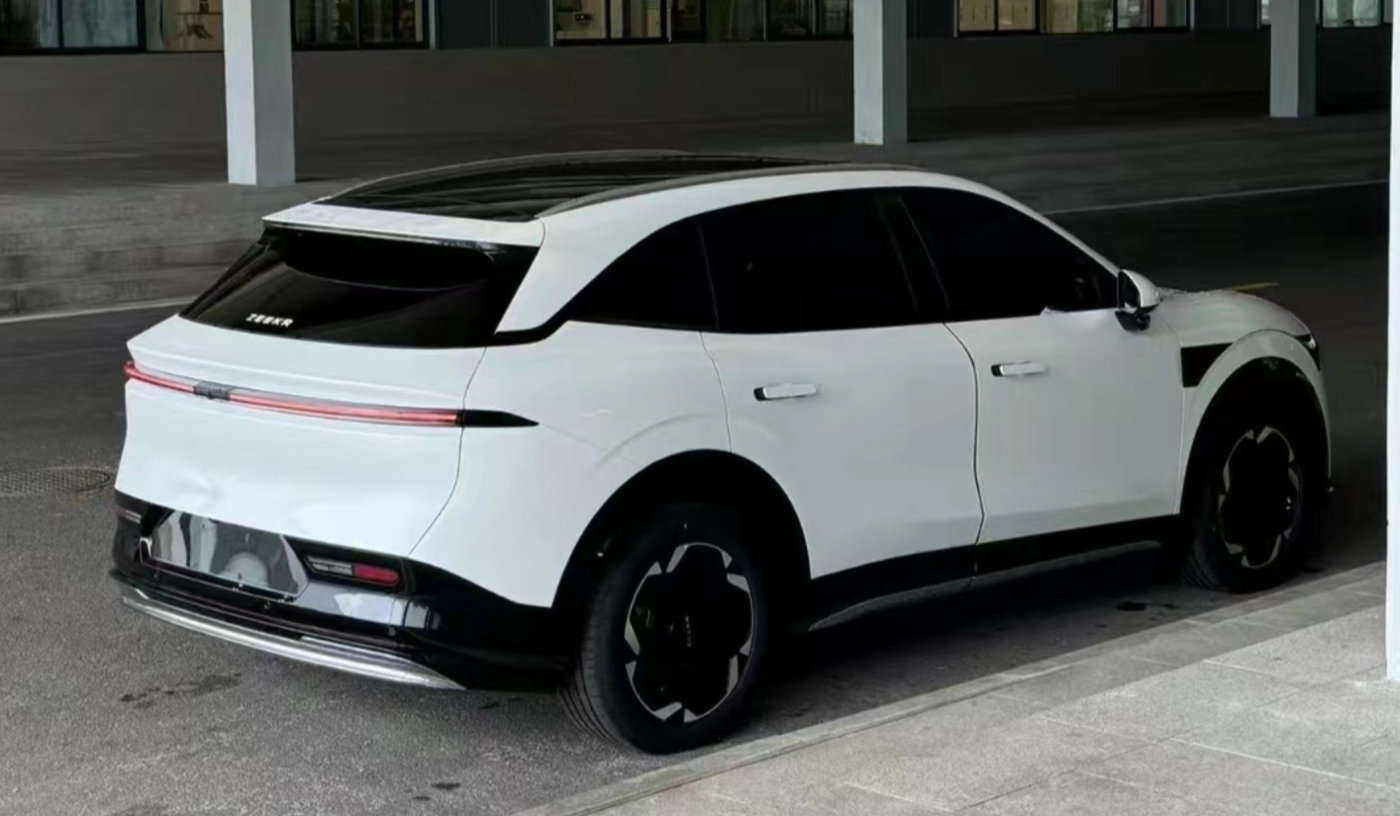other: (110, 165, 1342, 754)
